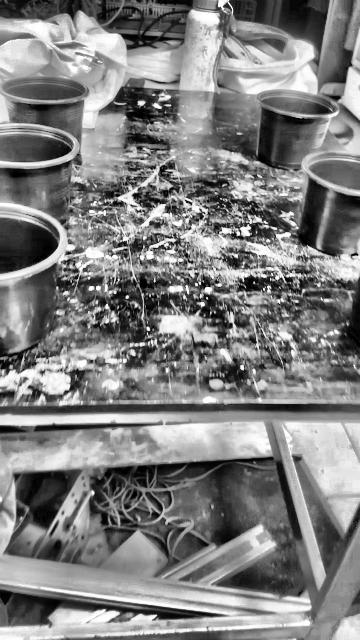pot: (0, 203, 66, 355), (0, 123, 79, 222), (256, 89, 339, 169), (0, 76, 89, 149), (299, 152, 360, 257)
